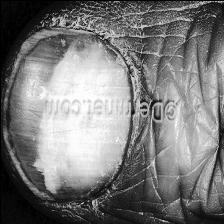Toxin: (35, 23, 135, 213)
